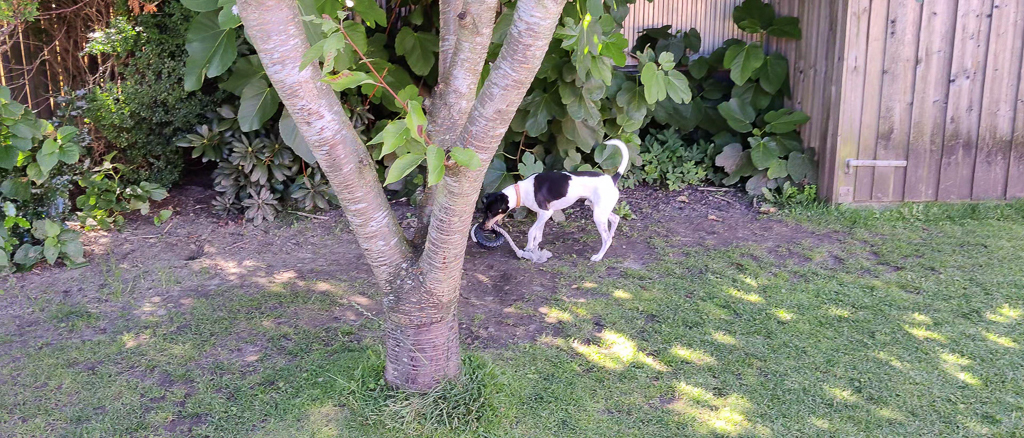Dog: (472, 135, 635, 265)
